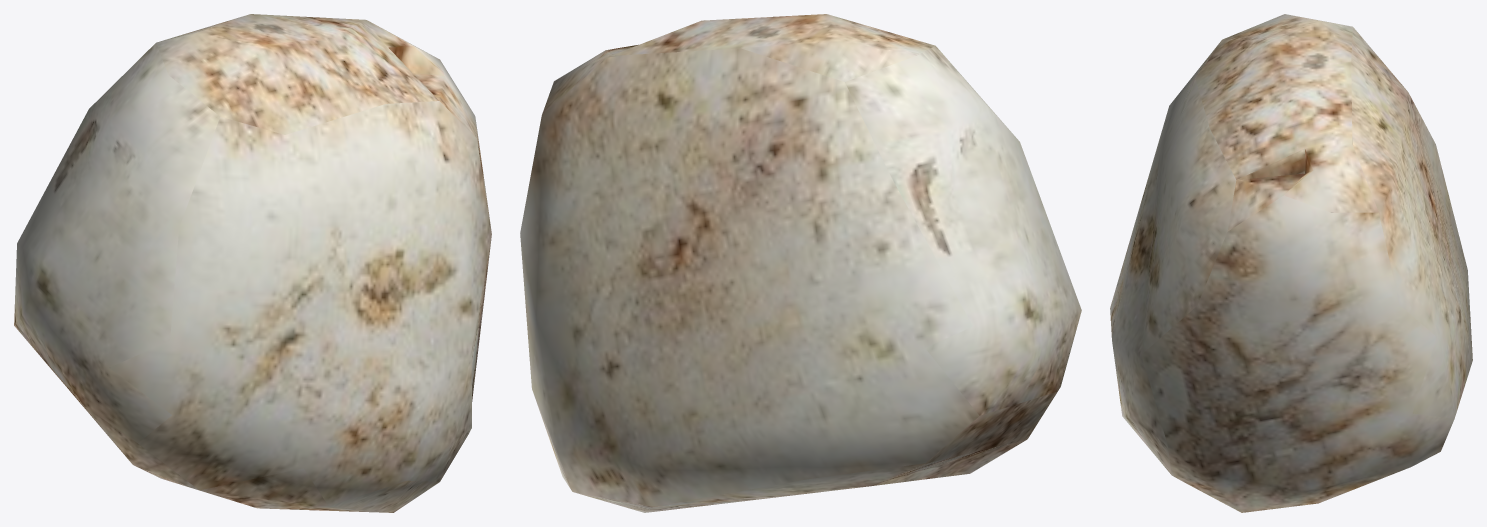
The model's file is rock.glb.
3 views of the same model, side by side, from view 1: azimuth 30°, elevation 25°; view 2: azimuth 150°, elevation 25°; view 3: azimuth 270°, elevation 25° (orthographic). The views are drawn at different scales.
Visible parts, largest first — view 1: rock009_lod4; view 2: rock009_lod4; view 3: rock009_lod4.
Part boxes in pixels (x1,y1,x2,y2): rock009_lod4: (14,14,491,512); rock009_lod4: (520,14,1081,512); rock009_lod4: (1110,14,1472,512).
Size of the model in its own units: 1 by 1.04 by 0.8145.
1 material, 1 textured.
